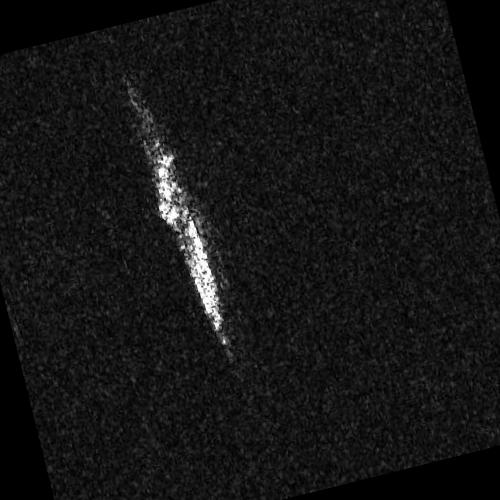ship: (143, 133, 228, 343)
